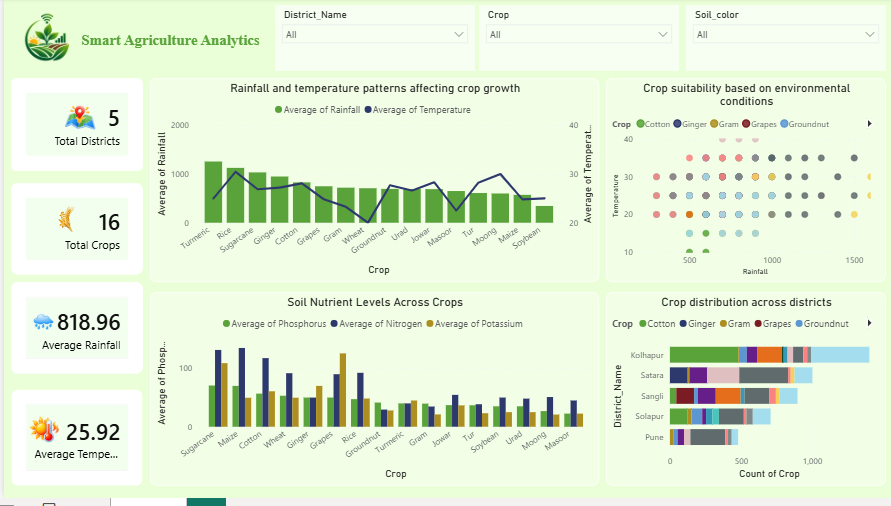

This screenshot's page, from the dashboard's own definition file:
{"tool":"powerbi","page":{"name":"Page 1","canvas":[1280,720],"ordinal":0},"visuals":[{"type":"cardVisual","fields":{"Data":["Smart_Agriculture_Cleaned.Total Crops"]},"box":[10.1,266.4,190.1,132.5],"z":0},{"type":"cardVisual","fields":{"Data":["Smart_Agriculture_Cleaned.Total Districts"]},"box":[10.1,115.2,190.1,133.9],"z":1000},{"type":"cardVisual","fields":{"Data":["Smart_Agriculture_Cleaned.Average Rainfall"]},"box":[10.1,409,190.1,132.5],"z":2000},{"type":"cardVisual","fields":{"Data":["Smart_Agriculture_Cleaned.Average Temperature"]},"box":[10.1,563,190.1,139.7],"z":3000},{"type":"scatterChart","title":"Crop  suitability based on environmental conditions","fields":{"X":["Smart_Agriculture_Cleaned.Rainfall"],"Y":["Smart_Agriculture_Cleaned.Temperature"],"Series":["Smart_Agriculture_Cleaned.Crop"]},"box":[866.9,115.2,403.2,293.8],"z":4000},{"type":"clusteredColumnChart","title":"Soil Nutrient Levels Across Crops","fields":{"Category":["Smart_Agriculture_Cleaned.Crop"],"Y":["Avg(Smart_Agriculture_Cleaned.Phosphorus)","Avg(Smart_Agriculture_Cleaned.Nitrogen)","Avg(Smart_Agriculture_Cleaned.Potassium)"]},"box":[210.2,423.4,646.6,279.4],"z":5000},{"type":"barChart","title":"Crop distribution across  districts","fields":{"Category":["Smart_Agriculture_Cleaned.District_Name"],"Y":["CountNonNull(Smart_Agriculture_Cleaned.Crop)"],"Series":["Smart_Agriculture_Cleaned.Crop"]},"box":[866.9,423.4,403.2,279.4],"z":6000},{"type":"lineClusteredColumnComboChart","title":" Rainfall and temperature patterns affecting crop growth","fields":{"Category":["Smart_Agriculture_Cleaned.Crop"],"Y":["Avg(Smart_Agriculture_Cleaned.Rainfall)"],"Y2":["Avg(Smart_Agriculture_Cleaned.Temperature)"]},"box":[210.2,115.2,646.6,293.8],"z":7000},{"type":"slicer","fields":{"Values":["Smart_Agriculture_Cleaned.District_Name"]},"box":[390.2,10.1,288,95],"z":8000},{"type":"slicer","fields":{"Values":["Smart_Agriculture_Cleaned.Crop"]},"box":[684,10.1,288,95],"z":9000},{"type":"slicer","fields":{"Values":["Smart_Agriculture_Cleaned.Soil_color"]},"box":[982.1,10.1,288,95],"z":10000},{"type":"textbox","box":[89.3,43.2,301,49],"z":11000},{"type":"image","box":[38.9,262.1,99.4,112.3],"z":12000},{"type":"image","box":[37.4,423.4,38.9,85],"z":13000},{"type":"image","box":[24.5,590.4,64.8,61.9],"z":14000},{"type":"image","box":[79.2,139.7,59,64.8],"z":15000},{"type":"image","box":[0,0,125.3,115.2],"z":16000}]}

Visuals, with their boxes in screenshot pixels (x1, y1, x2, y2), scaled from the page's 1280x720 canvas onto the 891x506 screenshot:
cardVisual - Smart_Agriculture_Cleaned.Total Crops: rect(7, 187, 139, 280)
cardVisual - Smart_Agriculture_Cleaned.Total Districts: rect(7, 81, 139, 175)
cardVisual - Smart_Agriculture_Cleaned.Average Rainfall: rect(7, 287, 139, 381)
cardVisual - Smart_Agriculture_Cleaned.Average Temperature: rect(7, 396, 139, 494)
"Crop  suitability based on environmental conditions" scatterChart: rect(603, 81, 884, 287)
"Soil Nutrient Levels Across Crops" clusteredColumnChart: rect(146, 298, 596, 494)
"Crop distribution across  districts" barChart: rect(603, 298, 884, 494)
" Rainfall and temperature patterns affecting crop growth" lineClusteredColumnComboChart: rect(146, 81, 596, 287)
slicer - Smart_Agriculture_Cleaned.District_Name: rect(272, 7, 472, 74)
slicer - Smart_Agriculture_Cleaned.Crop: rect(476, 7, 677, 74)
slicer - Smart_Agriculture_Cleaned.Soil_color: rect(684, 7, 884, 74)
textbox: rect(62, 30, 272, 65)
image: rect(27, 184, 96, 263)
image: rect(26, 298, 53, 357)
image: rect(17, 415, 62, 458)
image: rect(55, 98, 96, 144)
image: rect(0, 0, 87, 81)
